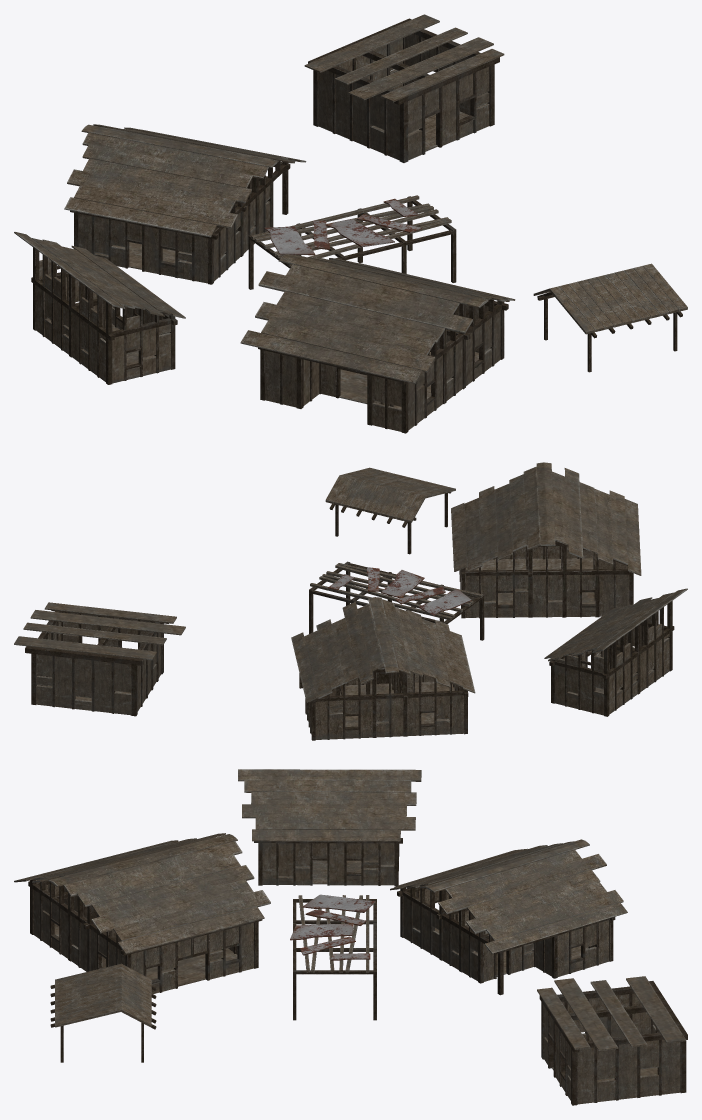
3 views of the same model, one above another, from view 1: azimuth 30°, elevation 25°; view 2: azimuth 150°, elevation 25°; view 3: azimuth 270°, elevation 25° (orthographic). The views are drawn at different scales.
Visible parts, largest first — view 1: wooden_house03, wooden_house02, wooden_house04, wooden_house01, wooden_structure02, wooden_structure01; view 2: wooden_house03, wooden_house02, wooden_house04, wooden_house01, wooden_structure02, wooden_structure01; view 3: wooden_house03, wooden_house02, wooden_house01, wooden_house04, wooden_structure02, wooden_structure01.
Boxes of the visible parts, x1,y1,x2,y2 form: wooden_house03: (240, 254, 515, 433); wooden_house02: (64, 124, 306, 284); wooden_house04: (304, 14, 504, 162); wooden_house01: (14, 232, 185, 384); wooden_structure02: (248, 195, 456, 289); wooden_structure01: (533, 263, 687, 372); wooden_house03: (451, 462, 641, 618); wooden_house02: (291, 597, 475, 740); wooden_house04: (14, 602, 185, 716); wooden_house01: (544, 588, 687, 716); wooden_structure02: (309, 561, 484, 640); wooden_structure01: (325, 467, 455, 554); wooden_house03: (14, 833, 270, 993); wooden_house02: (390, 839, 627, 995); wooden_house01: (238, 769, 421, 885); wooden_house04: (537, 976, 687, 1105); wooden_structure02: (290, 894, 376, 1020); wooden_structure01: (50, 963, 156, 1062).
Bounding box in the file's own units: 44.81 × 7.43 × 49.16.
Materials: 6 (6 with a texture image).
